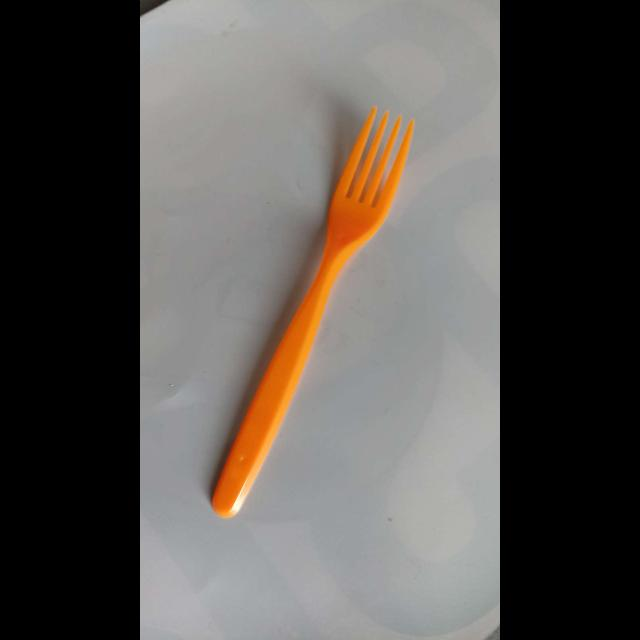plastic_cultery: (201, 99, 421, 527)
